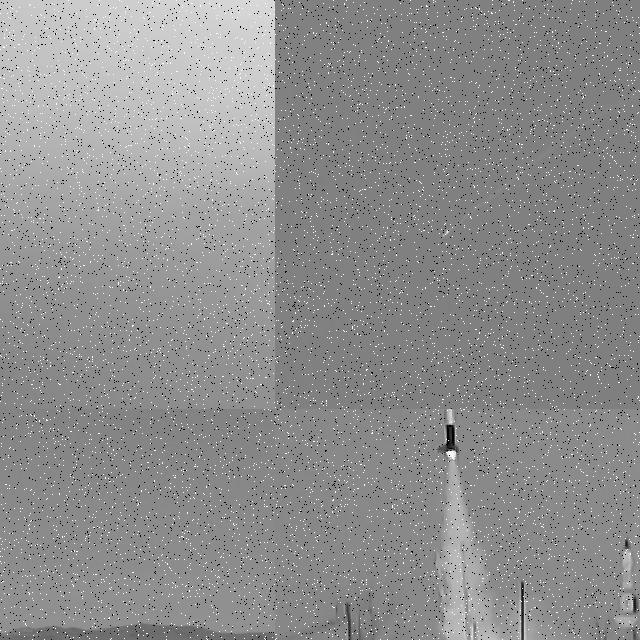Rocket: (613, 537, 640, 631), (435, 409, 460, 458), (443, 229, 449, 237)
